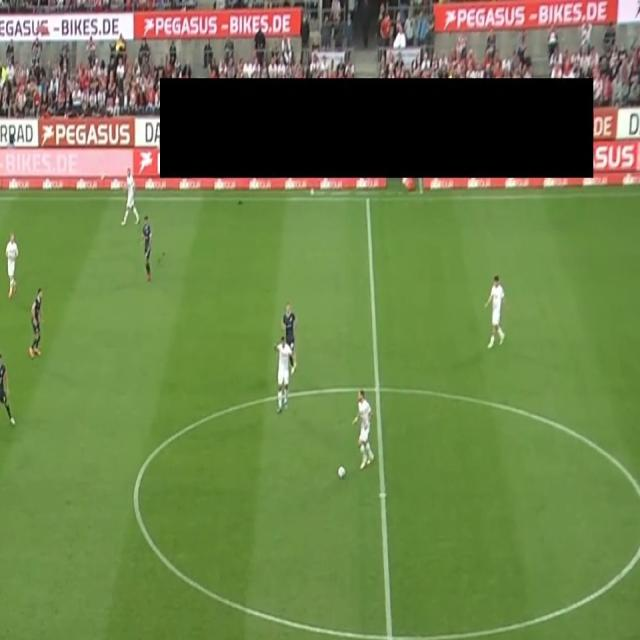ball: (337, 464, 347, 482)
